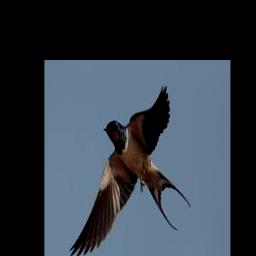Swallow: (69, 84, 190, 256)
